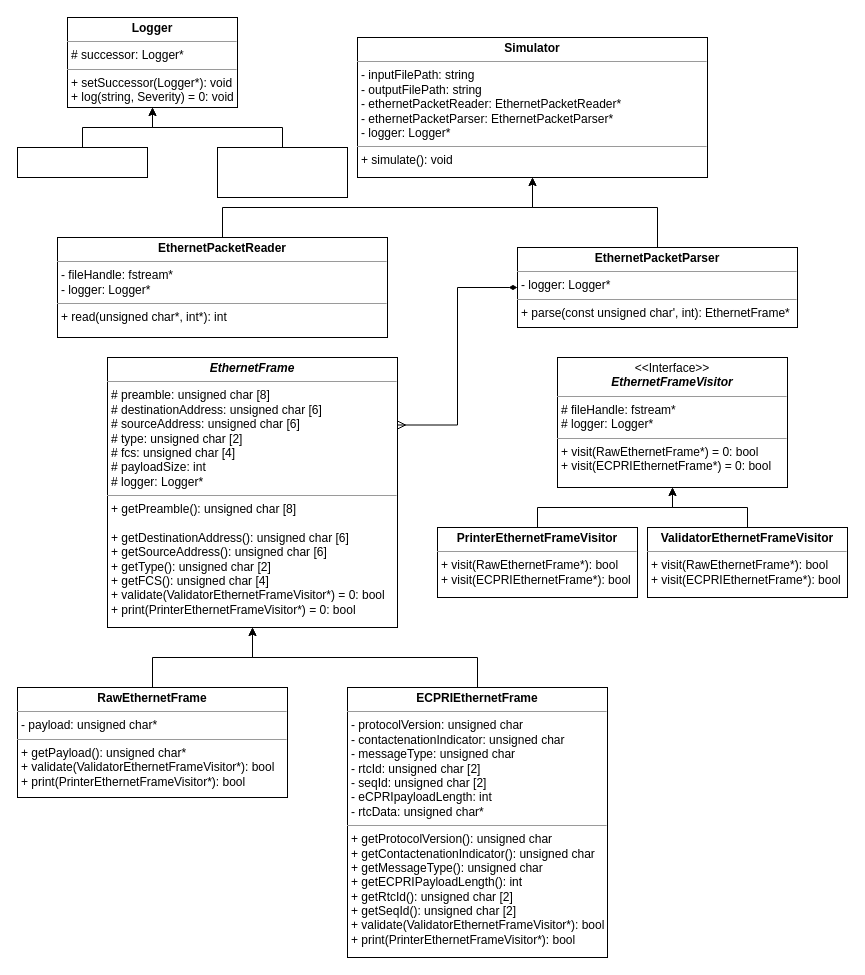
Some shapes in this 865 by 975 pixel diagram are drawn without their labels. The centre of each missing label's shape, as x and y in pixels:
"ConsoleLogger" goes at point 82,162.
"FileLogger - filename: string" goes at point 282,172.
